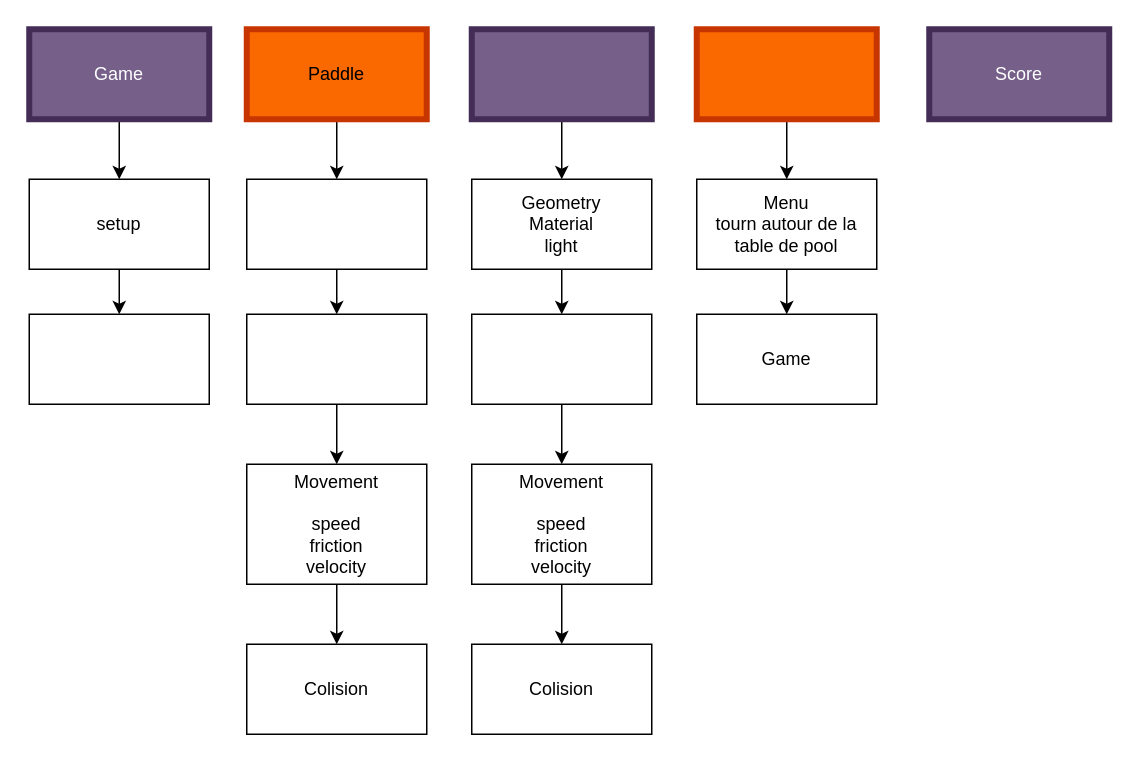
This 1137x761 diagram has some shape labels left out. Each missing label, with the centre of its shape:
"Ball" belongs at pixel 561 74.
"Direction" belongs at pixel 561 358.
"Game State" belongs at pixel 786 74.
"Geometry Material" belongs at pixel 336 223.
"input / position / animation" belongs at pixel 118 358.
"Input keyboard" belongs at pixel 336 358.
